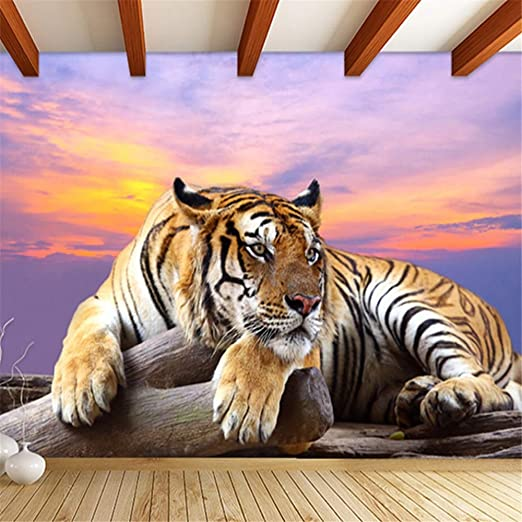Tigrew: (54, 155, 502, 436)
